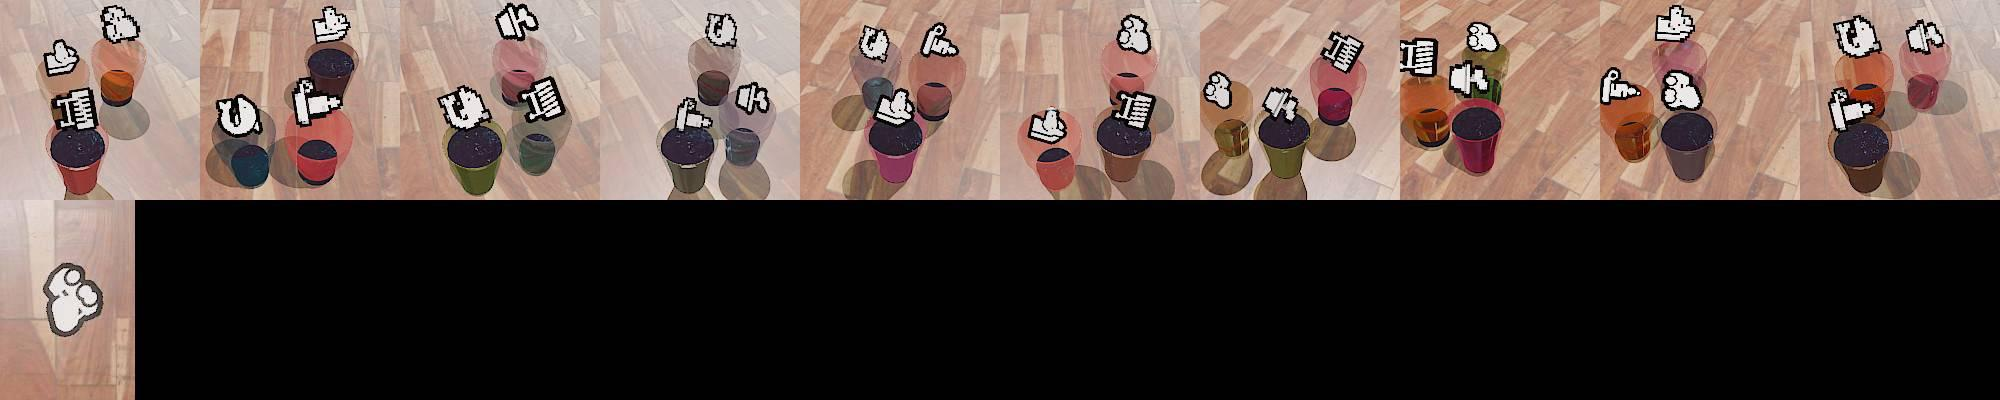icon: (43, 262, 103, 335), (290, 74, 344, 126), (436, 84, 491, 131), (520, 74, 568, 124), (1827, 85, 1875, 132), (1832, 15, 1883, 60), (214, 93, 264, 138), (51, 87, 98, 131), (1320, 28, 1364, 74), (1659, 68, 1703, 112), (494, 3, 540, 42), (1599, 65, 1644, 104), (874, 87, 918, 126), (1448, 60, 1494, 98), (99, 4, 142, 45), (1399, 37, 1439, 79), (1654, 4, 1696, 42), (310, 5, 351, 43), (920, 20, 960, 59), (675, 94, 714, 132), (42, 38, 80, 78), (1029, 104, 1068, 143), (1261, 84, 1298, 124), (1117, 13, 1153, 54), (1906, 19, 1946, 55), (704, 11, 739, 48), (735, 80, 772, 115), (857, 24, 890, 61), (1121, 89, 1154, 125), (1466, 20, 1500, 54), (1203, 71, 1232, 107)
